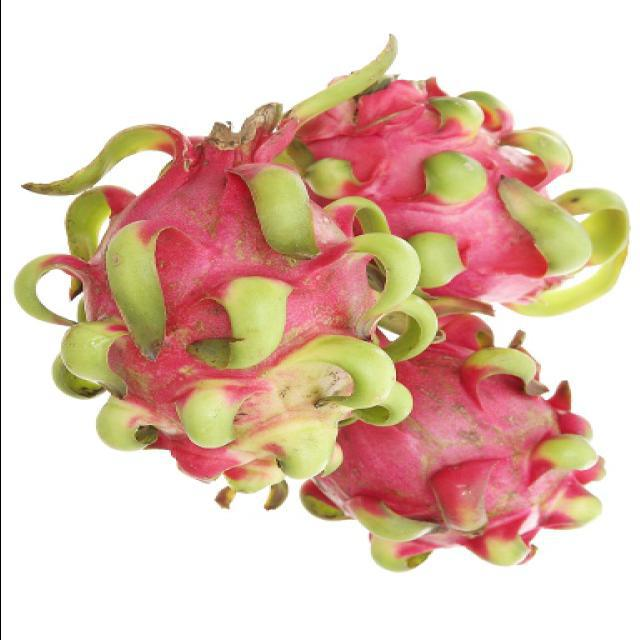do: (19, 125, 426, 489), (277, 61, 637, 297), (296, 299, 604, 573)
